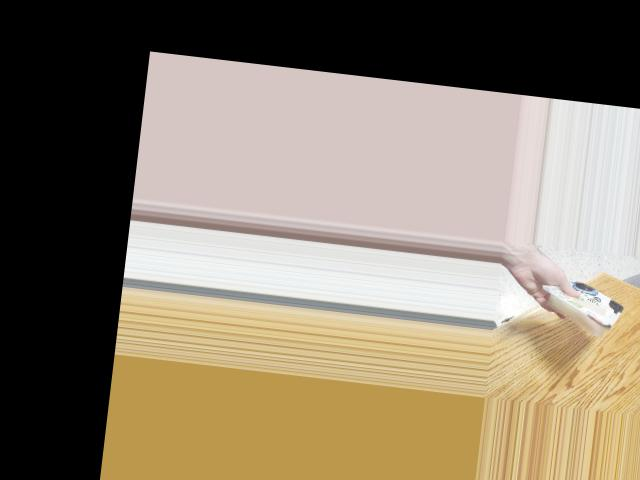cheese: (549, 266, 623, 337)
